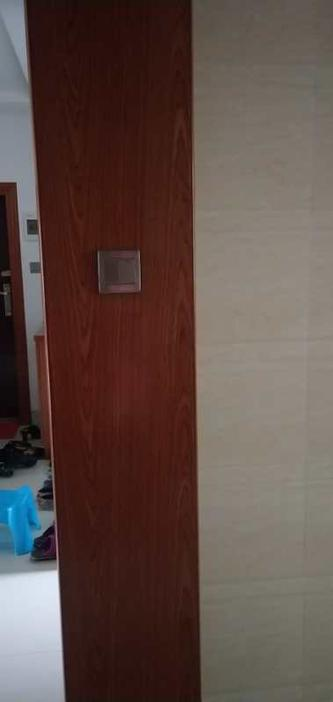switch: (98, 251, 142, 286)
